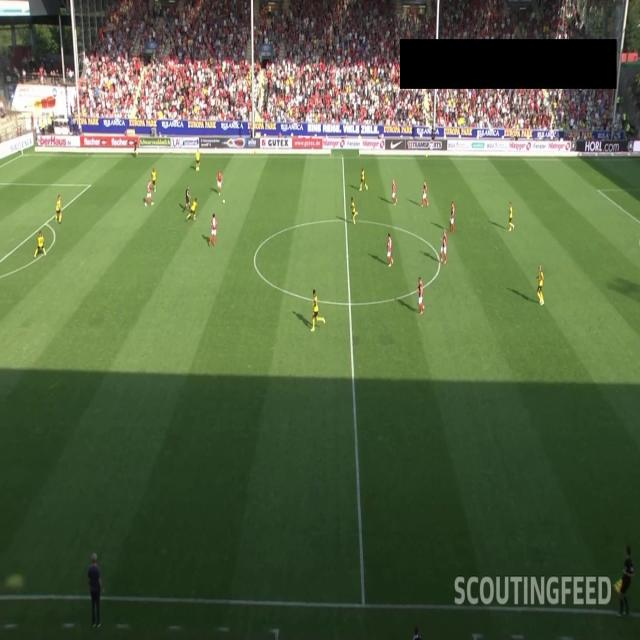ball: (220, 197, 227, 206)
player: (312, 290, 323, 330), (536, 264, 545, 308), (440, 228, 449, 266), (145, 179, 156, 209), (36, 228, 46, 258), (386, 231, 394, 268), (210, 211, 218, 246), (417, 276, 424, 314), (55, 190, 63, 222), (508, 199, 515, 232), (390, 180, 398, 207), (350, 196, 358, 222), (191, 196, 199, 222), (450, 199, 456, 233), (421, 180, 428, 207), (195, 145, 200, 170), (361, 166, 366, 190), (217, 172, 222, 195), (153, 165, 157, 188)
